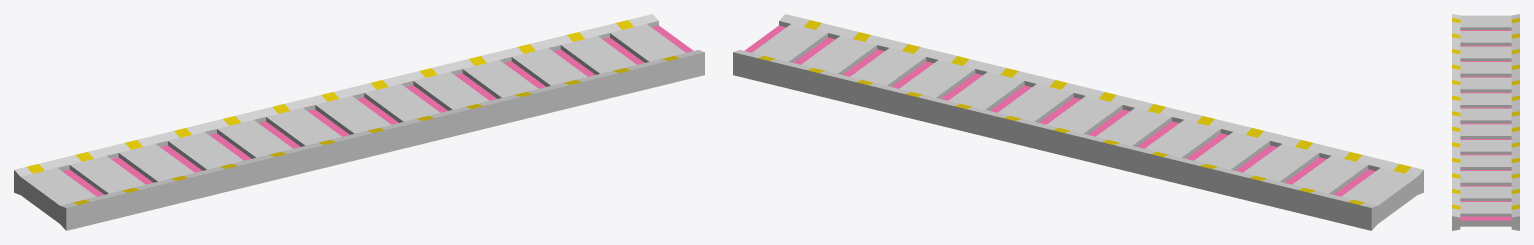
Rendered from standard bridge.fbx.
3 renders of one model, left to right at view 1: azimuth 30°, elevation 25°; view 2: azimuth 150°, elevation 25°; view 3: azimuth 270°, elevation 25°, orthographic. The views are drawn at different scales.
Parts seen in each view (by area): view 1: Cube; view 2: Cube; view 3: Cube.
Boxes of the visible parts, box(x1,y1,x2,y2) form: Cube: box(14, 14, 704, 230); Cube: box(733, 14, 1423, 230); Cube: box(1452, 14, 1519, 230).
Bounding box in the file's own units: 3344 × 115 × 474.
